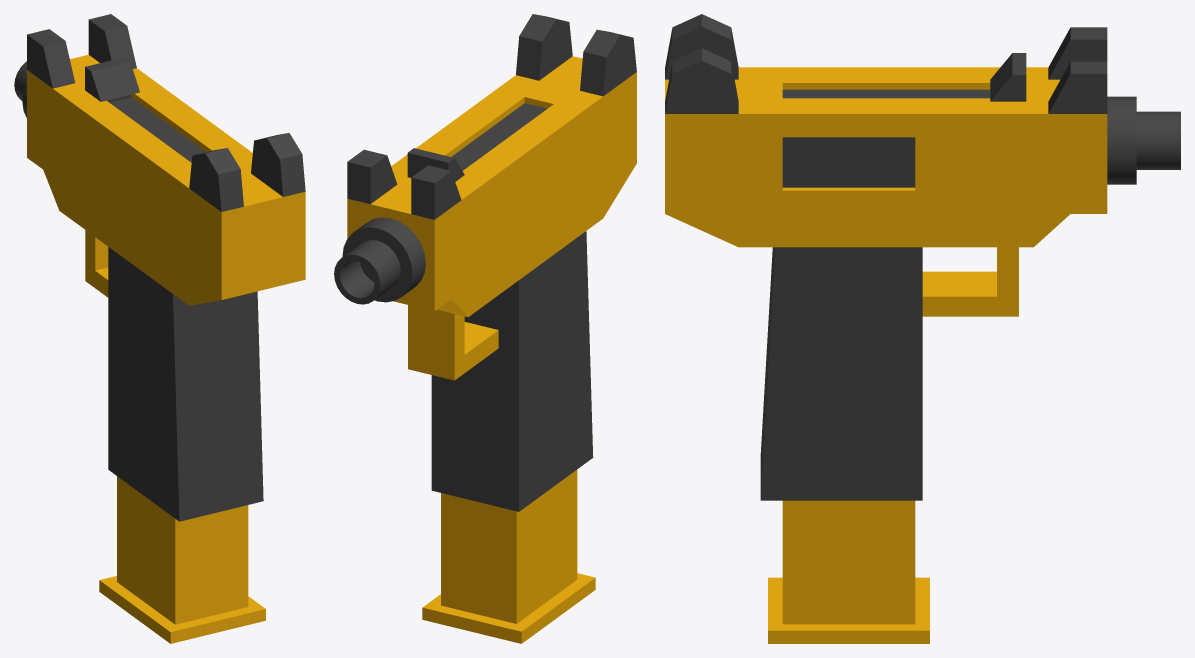
File: uziGold.dae
3 renders of one model, left to right at view 1: azimuth 30°, elevation 25°; view 2: azimuth 150°, elevation 25°; view 3: azimuth 270°, elevation 25°, orthographic. The views are drawn at different scales.
Visible parts, largest first — view 1: Group (×3); view 2: Group (×3); view 3: Group (×3).
Part boxes in pixels (<box>): Group (×3): <box>14,14,305,643</box>; Group (×3): <box>334,14,636,643</box>; Group (×3): <box>665,14,1180,643</box>.
Bounding box in the file's own units: 0.0651 × 0.333 × 0.2683.
